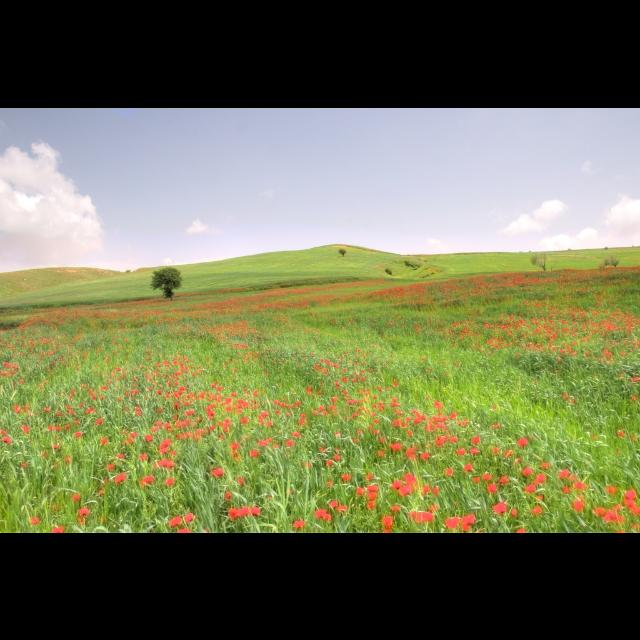Flower: (1, 264, 640, 532), (228, 504, 240, 518)
